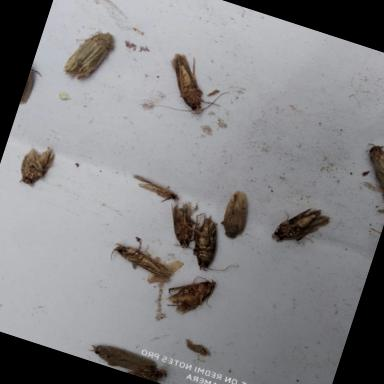pbw: (154, 49, 238, 127), (178, 210, 251, 280), (270, 196, 334, 255), (62, 22, 119, 88), (162, 266, 220, 322), (109, 235, 178, 280), (85, 338, 157, 378), (158, 196, 209, 252), (14, 139, 58, 191), (215, 187, 255, 241), (126, 172, 182, 207), (354, 140, 384, 196), (126, 357, 168, 384)
